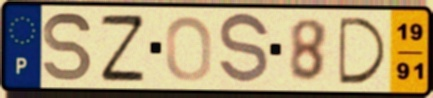8: (286, 16, 330, 85)
D: (336, 15, 391, 87)
O: (163, 14, 214, 83)
S: (216, 10, 272, 88), (40, 10, 95, 85)
Z: (98, 12, 147, 83)
